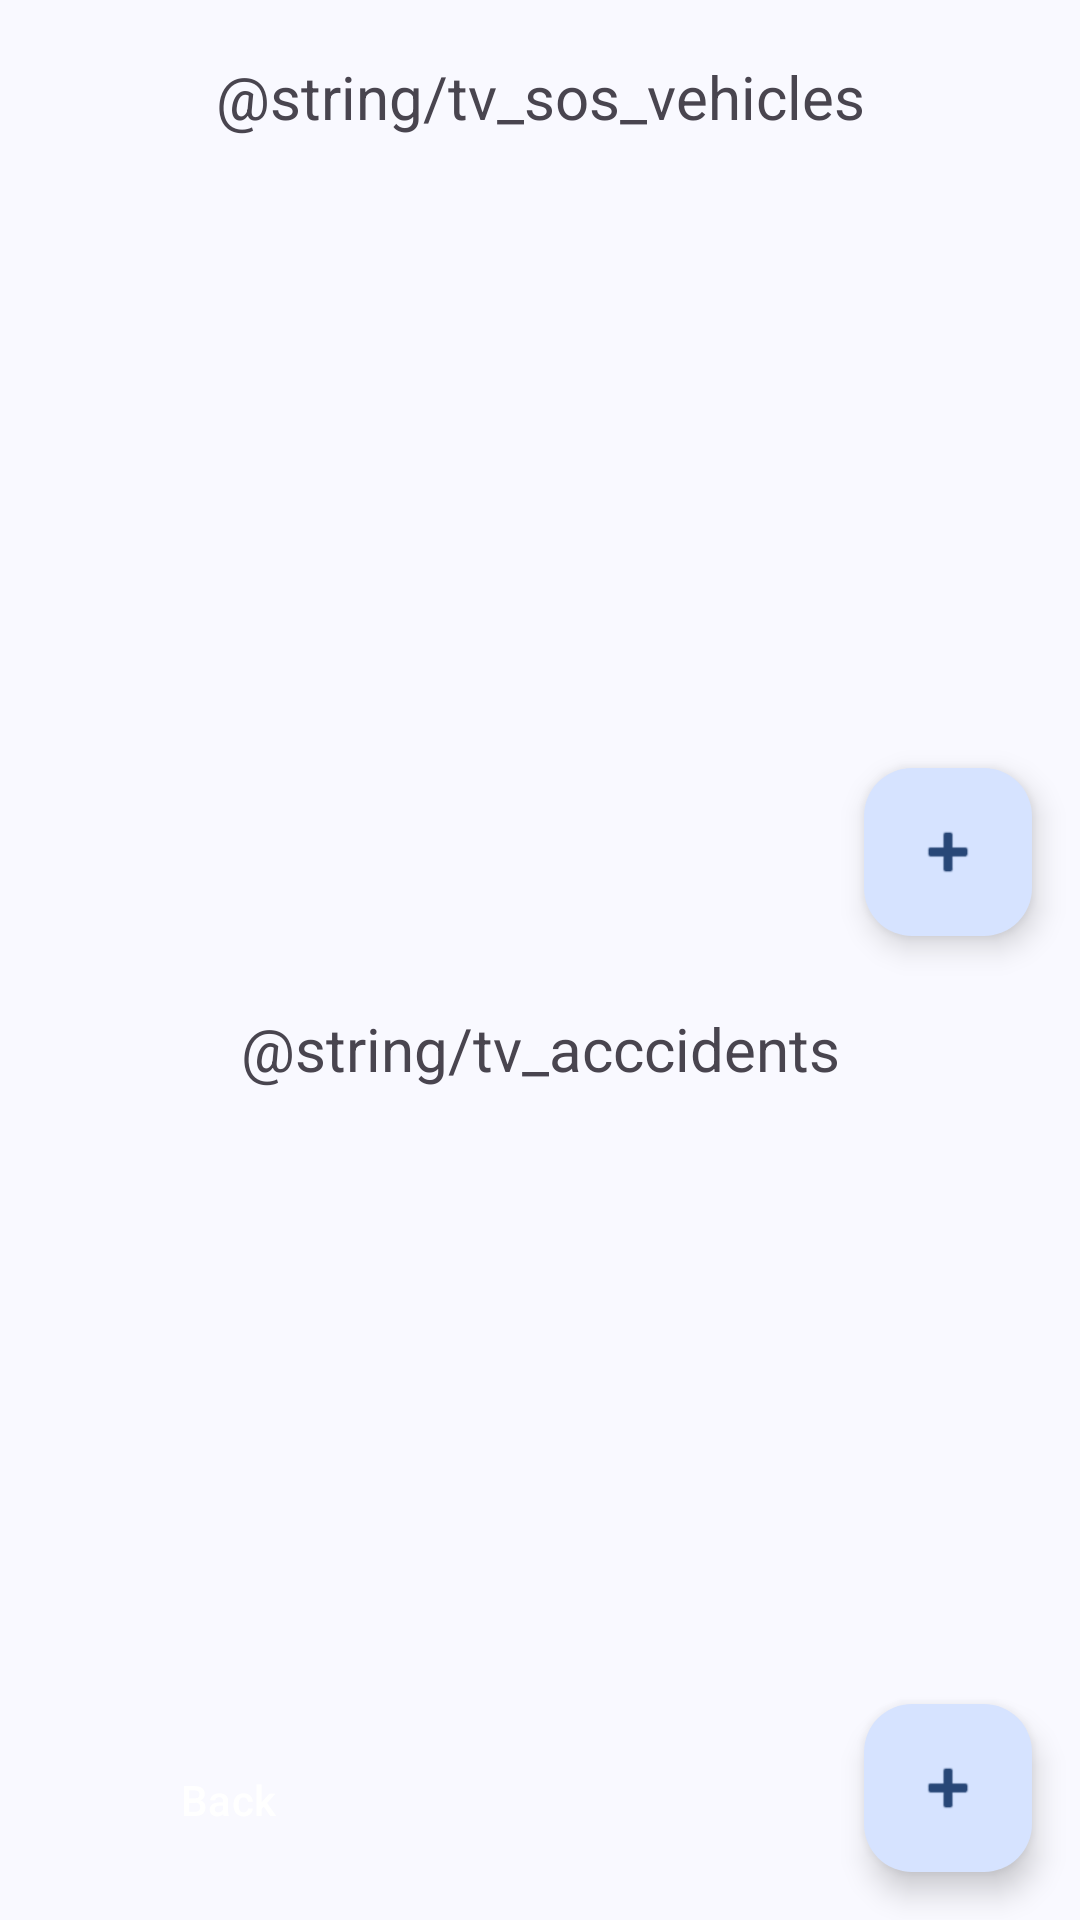

Where icons sit on this 1080px×1920px app screen, as (x1, y1, x2, y2):
add: (864, 768, 1032, 936)
